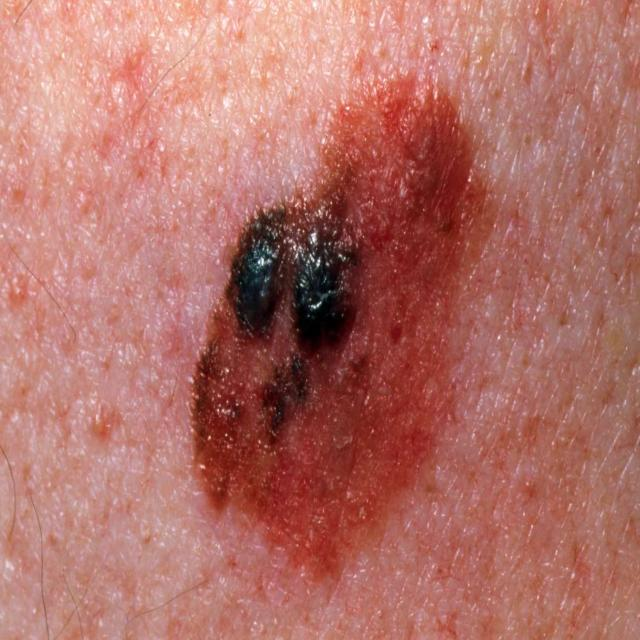Cancer: (165, 99, 481, 566)
